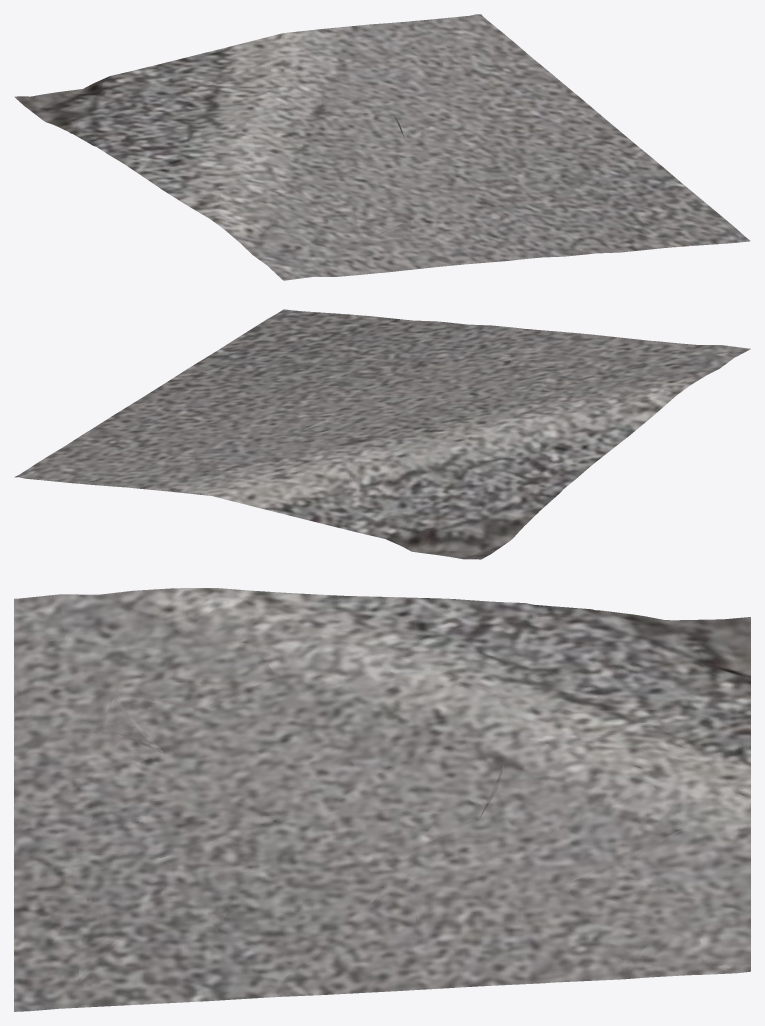
The picture shows the model from 3 angles, top to bottom: view 1: azimuth 30°, elevation 25°; view 2: azimuth 150°, elevation 25°; view 3: azimuth 270°, elevation 25°; orthographic projection. The views are drawn at different scales.
Bounding box in the file's own units: 0.8373 × 0.141 × 0.8374.
3 materials, 3 textured.
